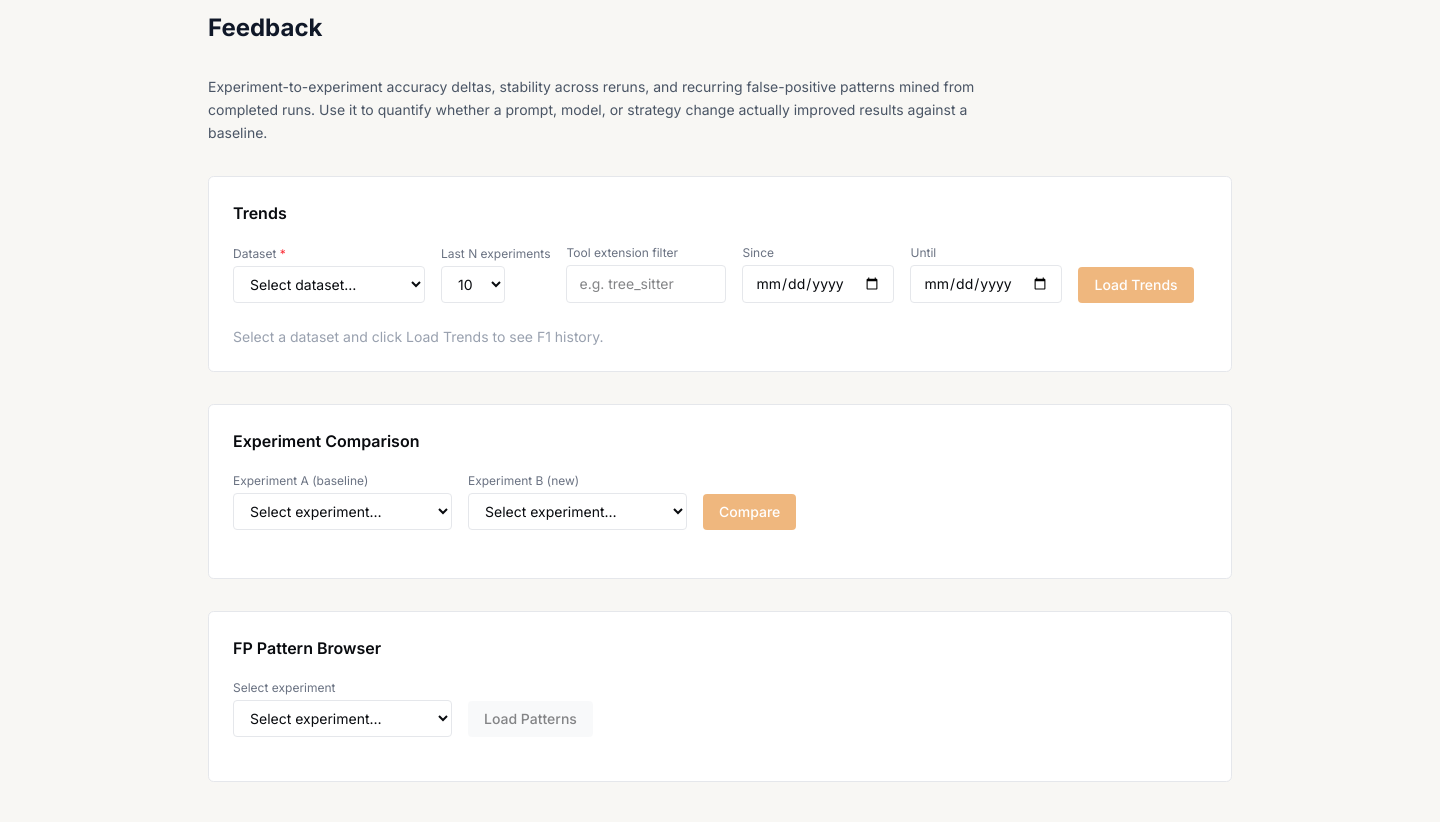
Scenario: Feedback — Experiment Comparison section › shows compare error message on failure
Expected: the button "Compare" is shown, [703,494,796,530]
Step 1. Select "exp-aaaaaaaa… (ds-test)" in the dropdown below "Experiment A (baseline)" → [342, 512], box [233,493,452,530]
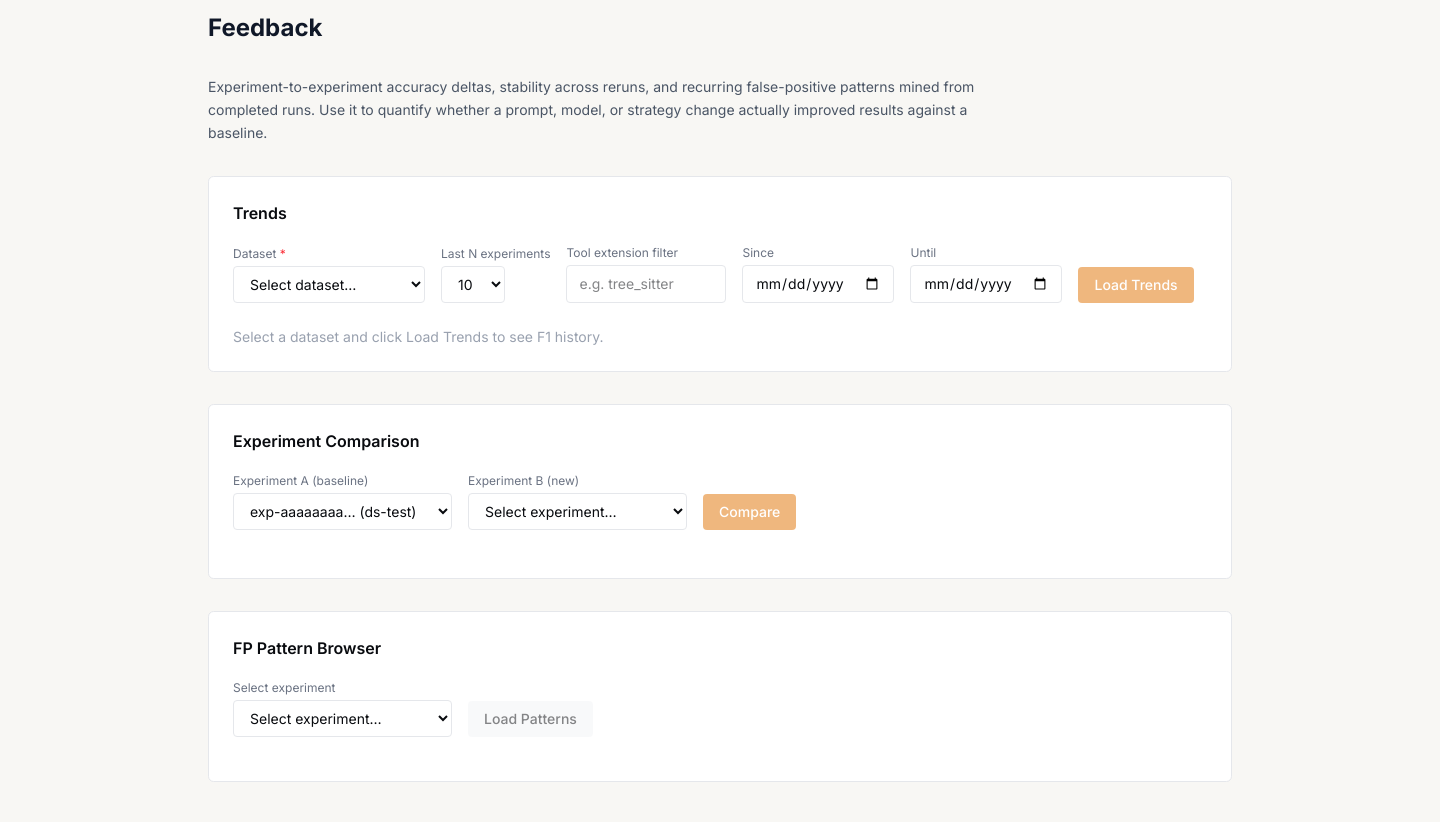
Step 2. Select "exp-bbbbbbbb… (ds-test)" in the dropdown below "Experiment B (new)" → [578, 512], box [468,493,687,530]
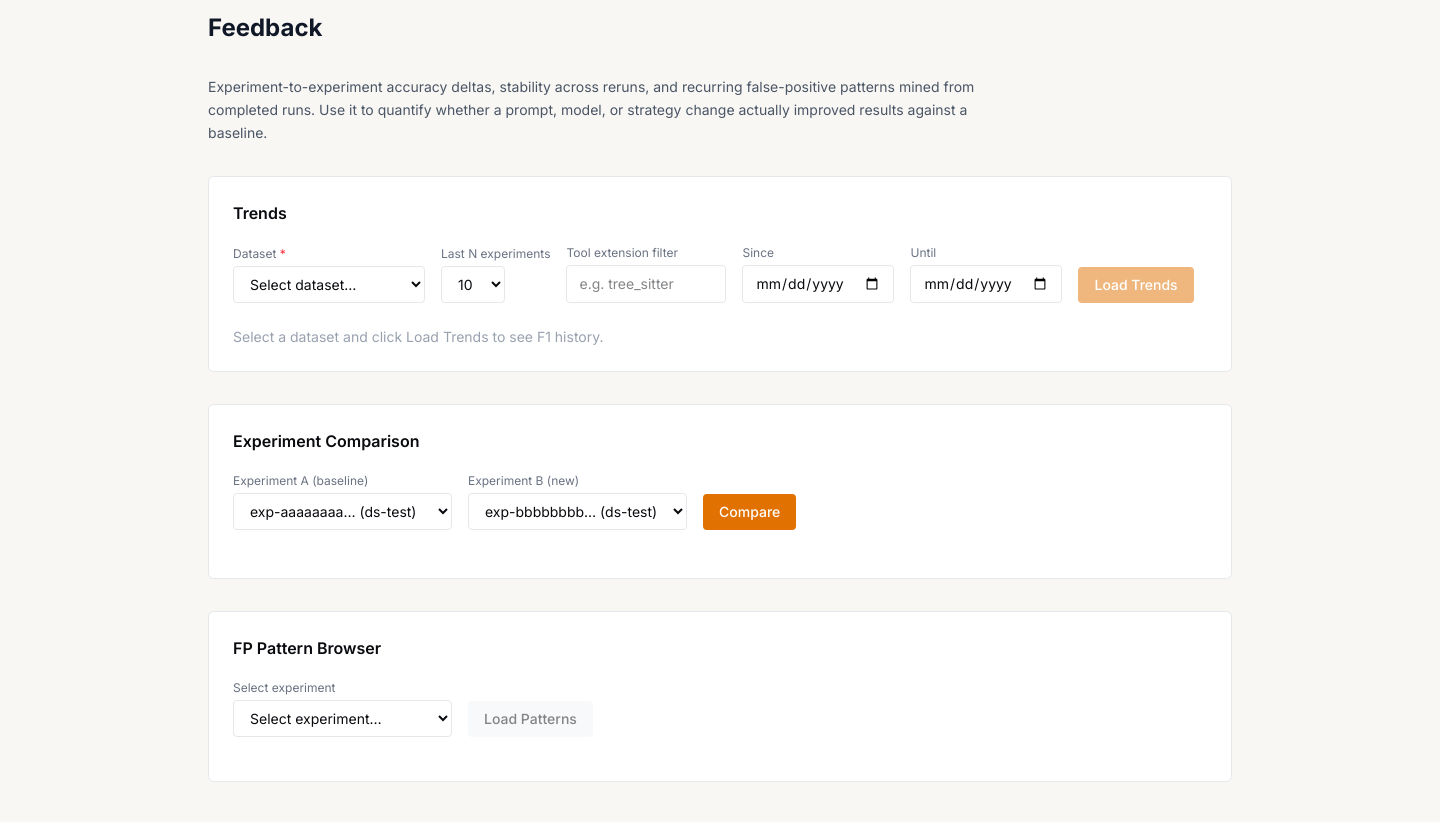
Step 3. Click the button "Compare" → [750, 512], box [703,494,796,530]
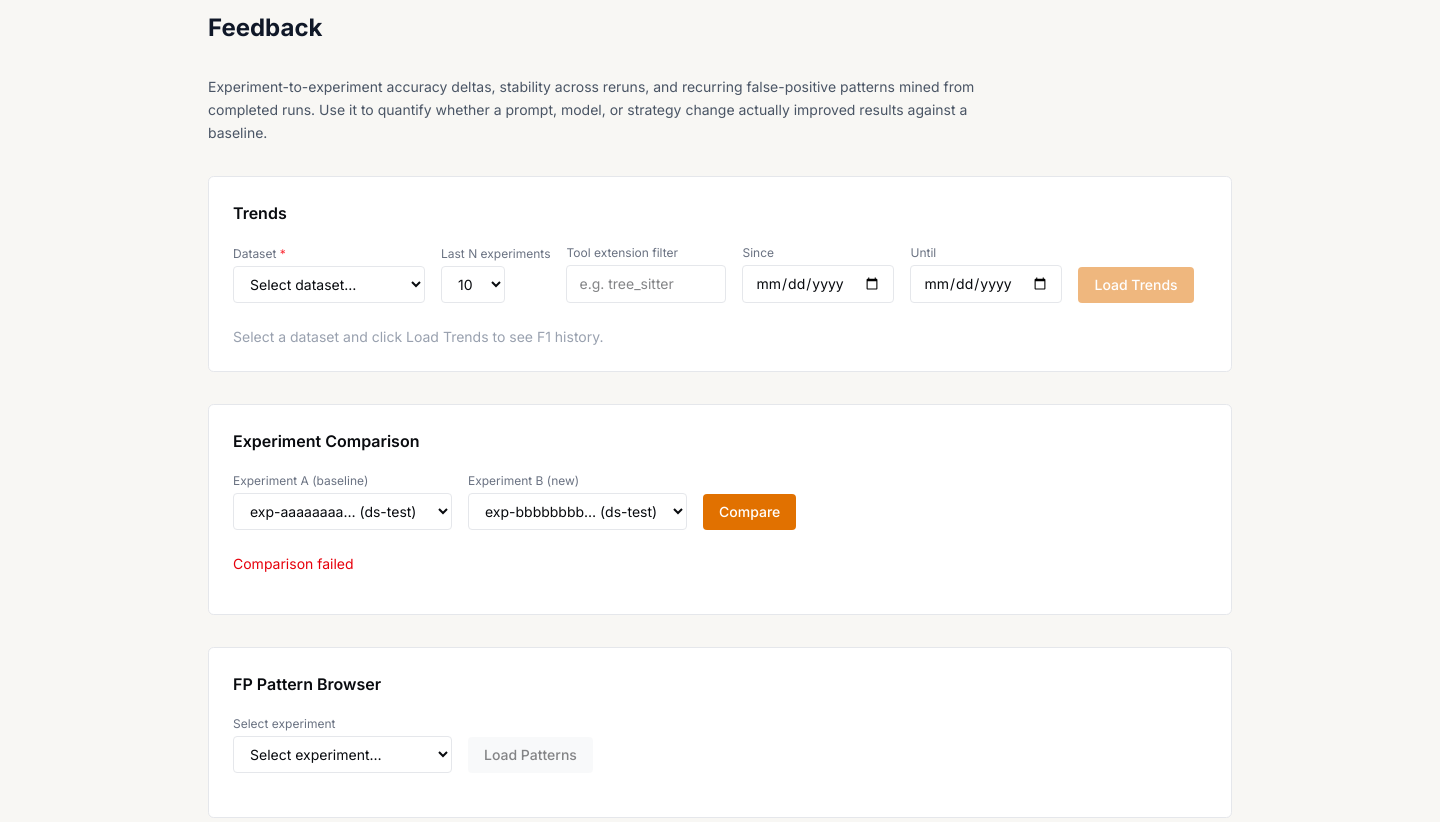
Now the text "Comparison failed" is shown, box [233,555,354,572]
